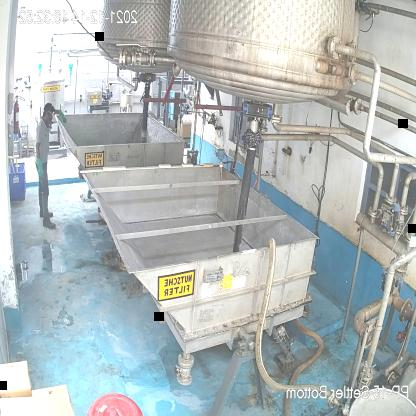shoes: (42, 212, 58, 232)
